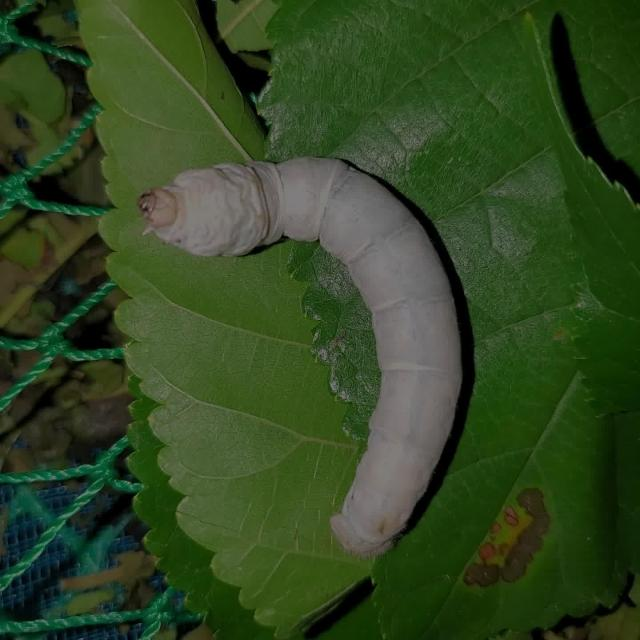Healthy: (111, 118, 524, 562)
